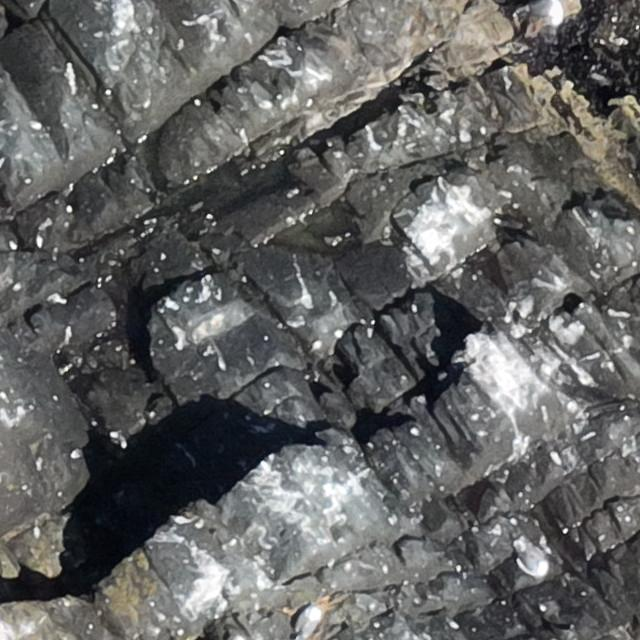umineko: (512, 542, 548, 576), (292, 608, 322, 638)
